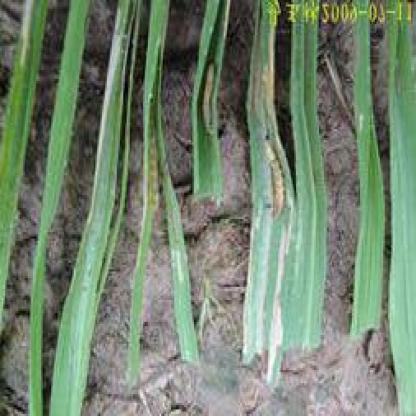leaf-folder: (137, 102, 182, 214), (188, 51, 231, 146), (256, 120, 294, 227)
